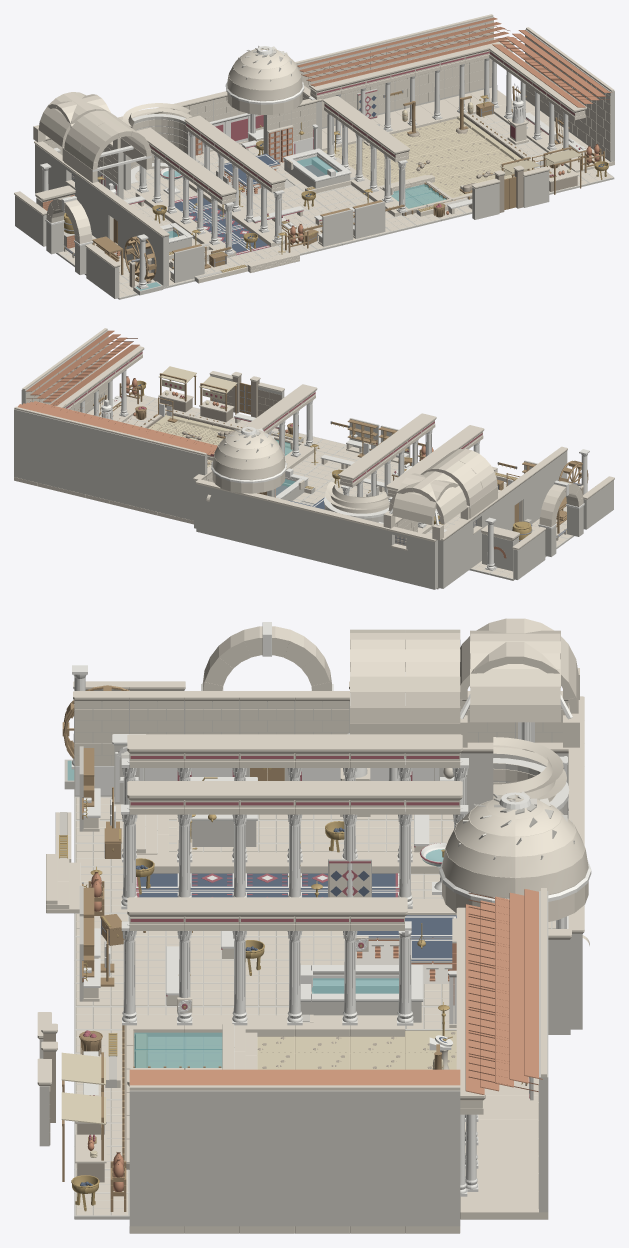
File: 3dassets-roman-bathhouse-and-palaestra-bath-house-c0db5458-starter-scene.glb
3 views of the same model, one above another, from view 1: azimuth 30°, elevation 25°; view 2: azimuth 150°, elevation 25°; view 3: azimuth 270°, elevation 25° (orthographic). The views are drawn at different scales.
Parts seen in each view (by area): view 1: 184-dome-section-with-oculus/0, 181-groin-vault-section/0, 183-barrel-vault-section/0, 309-colonnade-portico-run/0, 308-colonnade-portico-run/0, 231-caldarium-apse-section/1, 310-colonnade-portico-run/0, 317-colonnade-portico-run/0, 307-colonnade-portico-run/0, 182-barrel-vault-section/0, 311-colonnade-portico-run/0, 303-arch-section/1 (+71 smaller); view 2: 184-dome-section-with-oculus/0, 181-groin-vault-section/0, 309-colonnade-portico-run/3, 306-colonnade-portico-run/3, 307-colonnade-portico-run/3, 308-colonnade-portico-run/3, 311-colonnade-portico-run/3, 305-colonnade-portico-run/3, 310-colonnade-portico-run/3, 182-barrel-vault-section/0, 156-bathhouse-wall-module/0, 160-bathhouse-wall-module/0 (+50 smaller); view 3: 184-dome-section-with-oculus/0, 181-groin-vault-section/0, 312-colonnade-portico-run/3, 313-colonnade-portico-run/3, 315-colonnade-portico-run/3, 316-colonnade-portico-run/3, 317-colonnade-portico-run/3, 314-colonnade-portico-run/3, 182-barrel-vault-section/0, 183-barrel-vault-section/0, 303-arch-section/1, 252-caldarium-hot-pool/1 (+89 smaller).
Boxes of the visible parts, left/top/right/bottom form: 184-dome-section-with-oculus/0: left=227, top=48, right=302, bottom=114; 181-groin-vault-section/0: left=33, top=92, right=120, bottom=161; 183-barrel-vault-section/0: left=78, top=121, right=151, bottom=182; 309-colonnade-portico-run/0: left=418, top=26, right=465, bottom=122; 308-colonnade-portico-run/0: left=393, top=32, right=441, bottom=128; 231-caldarium-apse-section/1: left=122, top=103, right=191, bottom=169; 310-colonnade-portico-run/0: left=442, top=20, right=490, bottom=114; 317-colonnade-portico-run/0: left=559, top=79, right=614, bottom=172; 307-colonnade-portico-run/0: left=368, top=38, right=416, bottom=134; 182-barrel-vault-section/0: left=64, top=110, right=132, bottom=172; 311-colonnade-portico-run/0: left=467, top=14, right=514, bottom=105; 303-arch-section/1: left=46, top=196, right=92, bottom=250; 184-dome-section-with-oculus/0: left=212, top=428, right=285, bottom=493; 181-groin-vault-section/0: left=383, top=471, right=469, bottom=540; 309-colonnade-portico-run/3: left=61, top=421, right=85, bottom=494; 306-colonnade-portico-run/3: left=133, top=438, right=157, bottom=511; 307-colonnade-portico-run/3: left=109, top=432, right=133, bottom=505; 308-colonnade-portico-run/3: left=85, top=427, right=109, bottom=499; 311-colonnade-portico-run/3: left=14, top=409, right=37, bottom=482; 305-colonnade-portico-run/3: left=157, top=444, right=180, bottom=517; 310-colonnade-portico-run/3: left=38, top=415, right=61, bottom=488; 182-barrel-vault-section/0: left=420, top=459, right=484, bottom=518; 156-bathhouse-wall-module/0: left=411, top=536, right=437, bottom=589; 160-bathhouse-wall-module/0: left=315, top=513, right=339, bottom=566; 184-dome-section-with-oculus/0: left=442, top=795, right=588, bottom=921; 181-groin-vault-section/0: left=460, top=618, right=579, bottom=747; 312-colonnade-portico-run/3: left=405, top=1090, right=460, bottom=1226; 313-colonnade-portico-run/3: left=350, top=1090, right=405, bottom=1226; 315-colonnade-portico-run/3: left=239, top=1090, right=294, bottom=1226; 316-colonnade-portico-run/3: left=184, top=1090, right=239, bottom=1226; 317-colonnade-portico-run/3: left=129, top=1090, right=184, bottom=1226; 314-colonnade-portico-run/3: left=295, top=1090, right=349, bottom=1226; 182-barrel-vault-section/0: left=405, top=629, right=460, bottom=734; 183-barrel-vault-section/0: left=350, top=629, right=404, bottom=734; 303-arch-section/1: left=202, top=626, right=331, bottom=690; 252-caldarium-hot-pool/1: left=300, top=965, right=423, bottom=1001.
Bounding box in the file's own units: 41.75 × 8.01 × 20.1.
